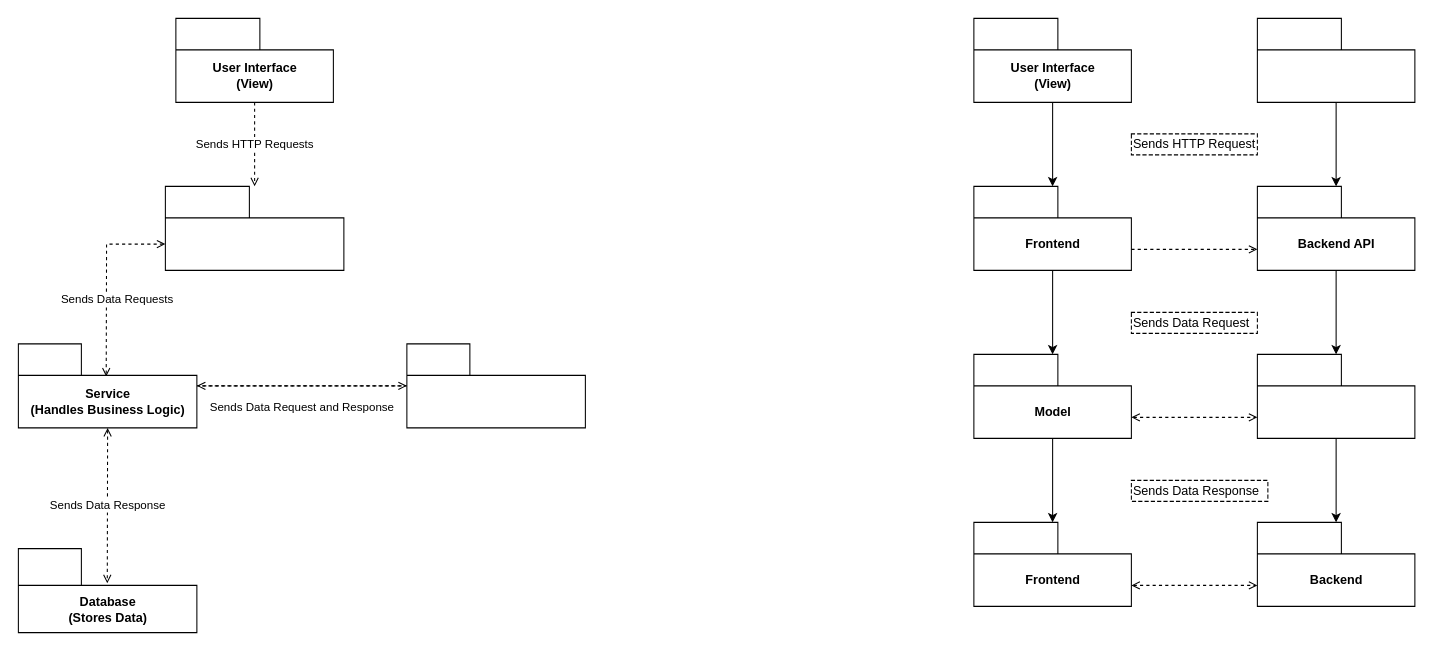
Image size: 1433x651. Some labels were removed from this diagram. The box of each missing label's shape, as (x1, y1, x2, y2) in pixels:
Controller: (1256, 17, 1415, 102)
Controller (Handles Request Routing): (164, 185, 344, 270)
Database: (1256, 353, 1415, 438)
Model (Manages Data and Logic): (406, 343, 585, 428)
